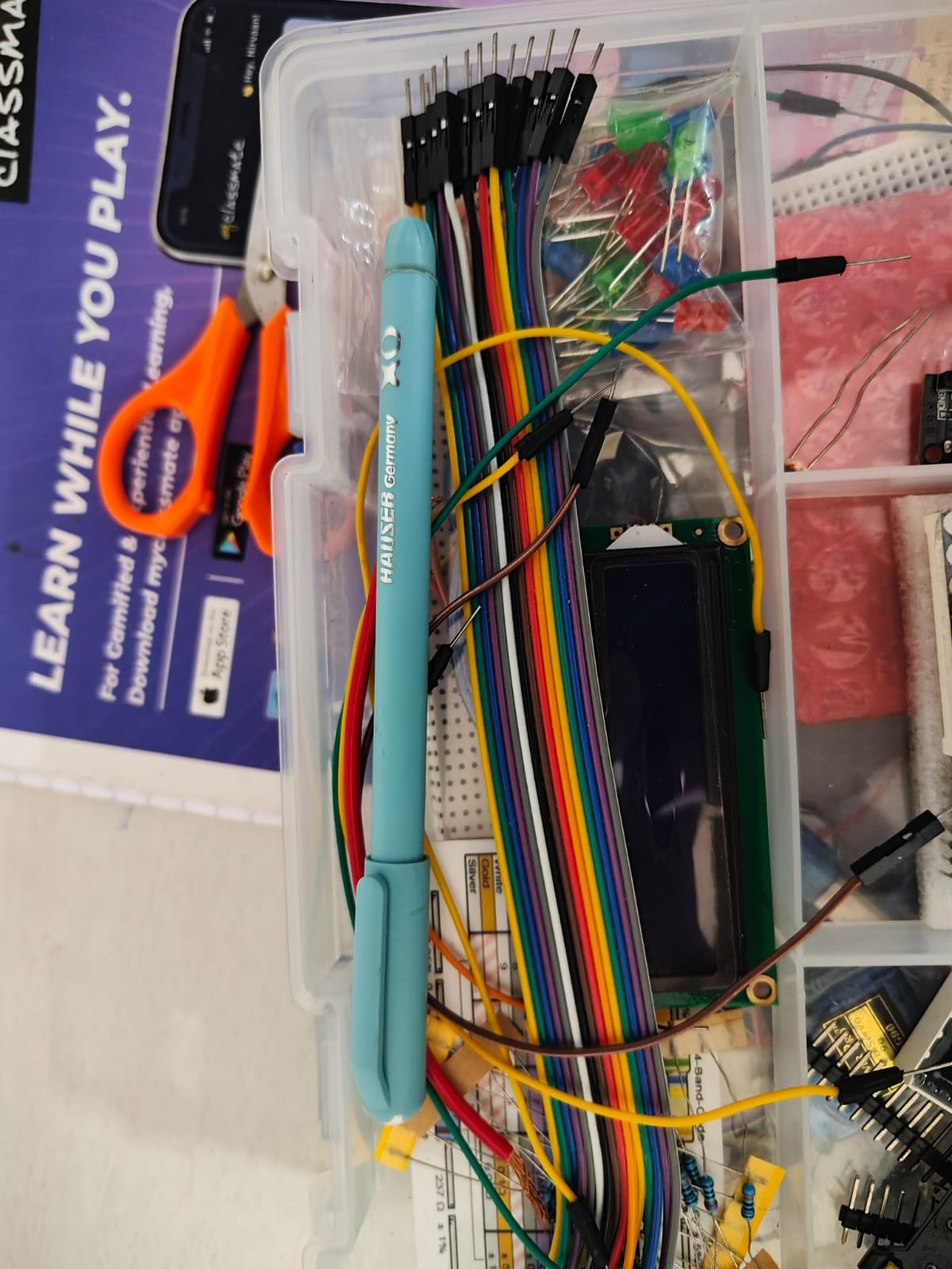pen: (349, 204, 443, 1127)
